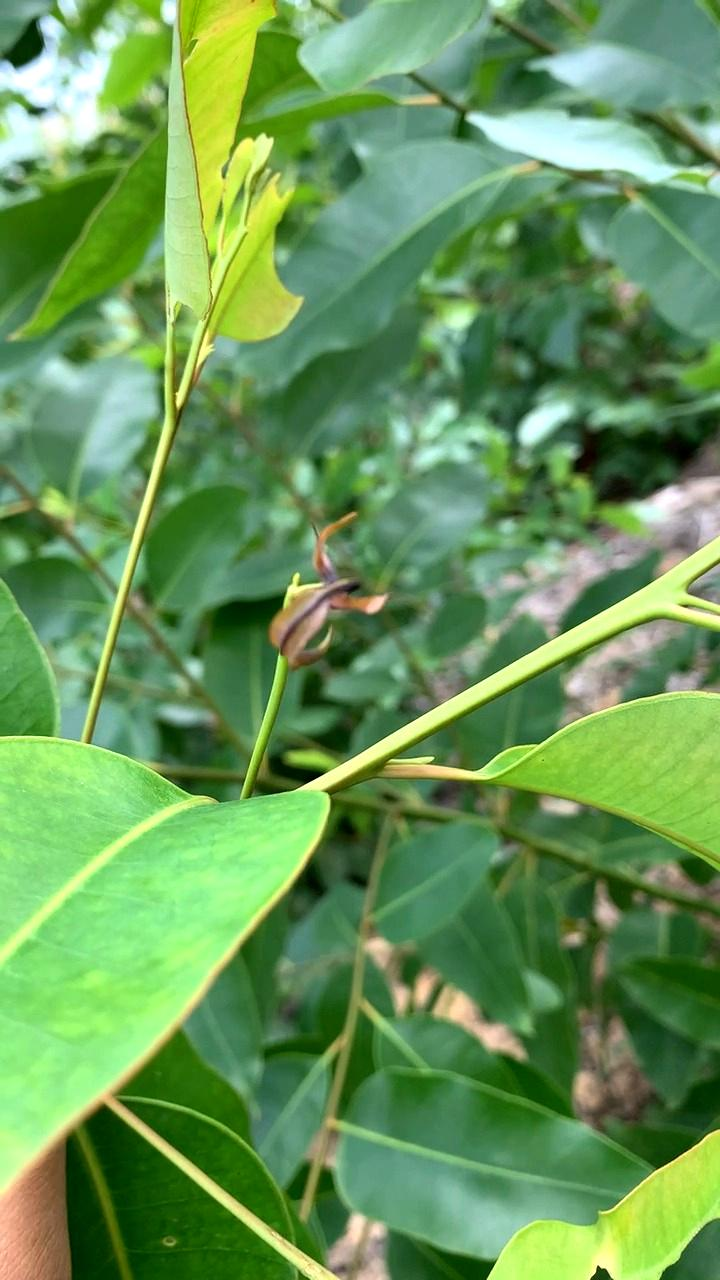Helopeltis-Withered Sprout: (266, 508, 407, 691)
